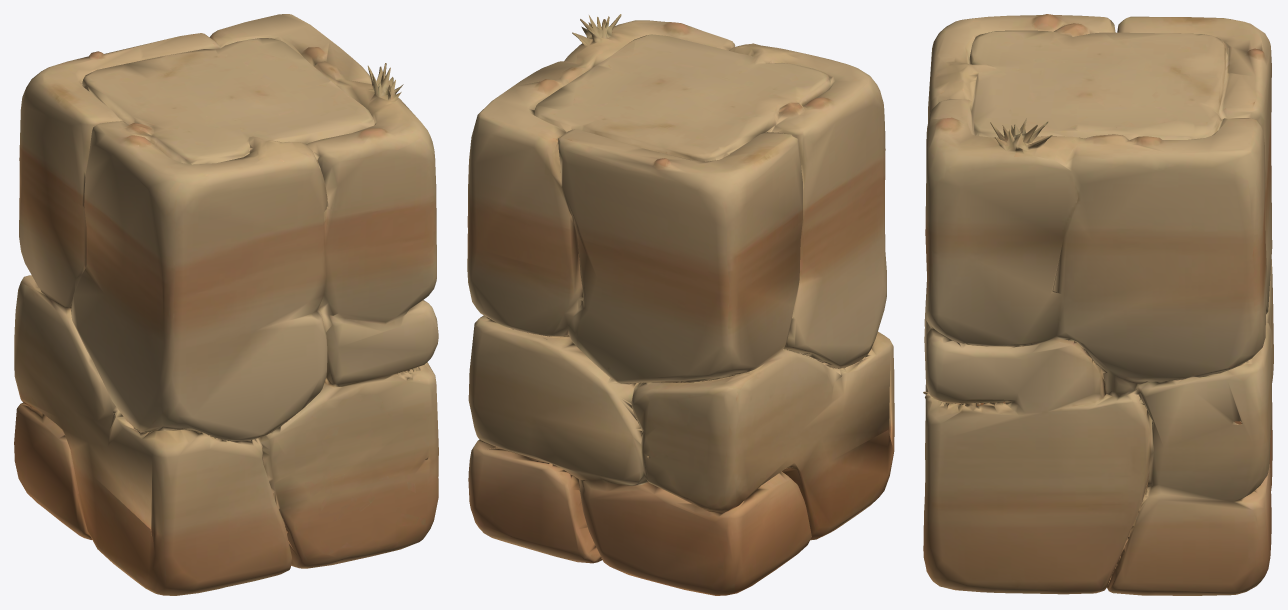
3 views of the same model, side by side, from view 1: azimuth 30°, elevation 25°; view 2: azimuth 150°, elevation 25°; view 3: azimuth 270°, elevation 25° (orthographic). The views are drawn at different scales.
Visible parts, largest first — view 1: world; view 2: world; view 3: world.
Part boxes in pixels (bbox=[...]): world: bbox=[14, 14, 438, 595]; world: bbox=[467, 14, 894, 595]; world: bbox=[923, 14, 1273, 595].
Size of the model in its own units: 0.6687 by 0.9991 by 0.6711.
1 material, 1 textured.
